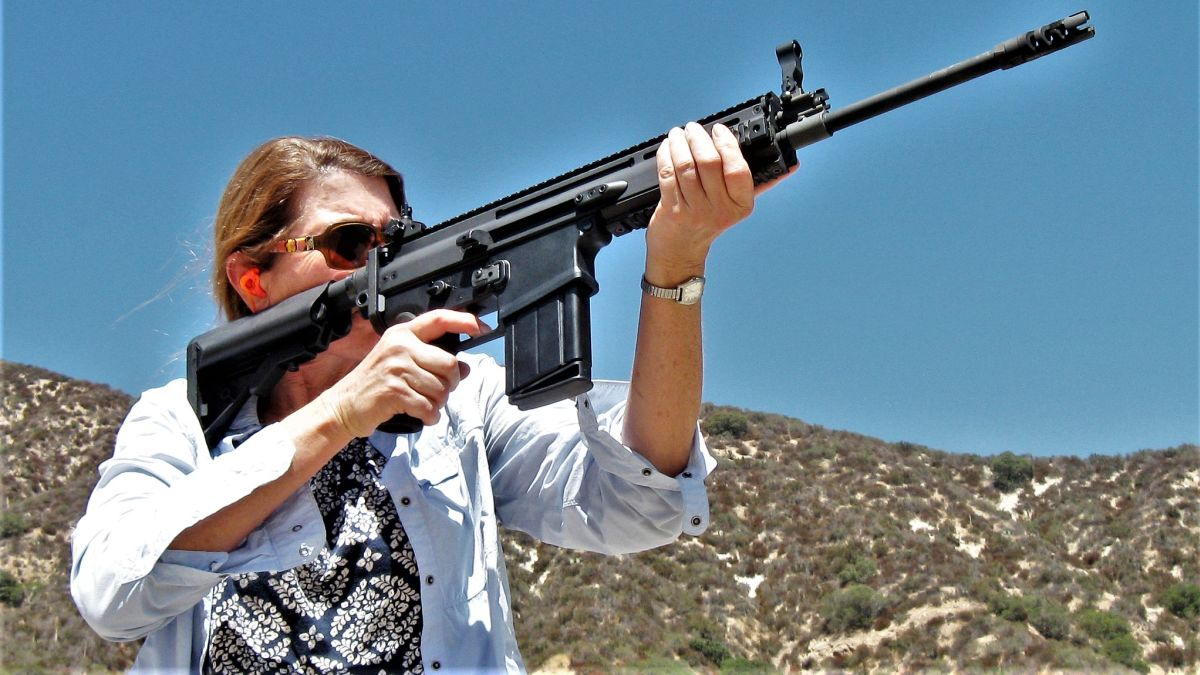Gun: (459, 58, 986, 321)
